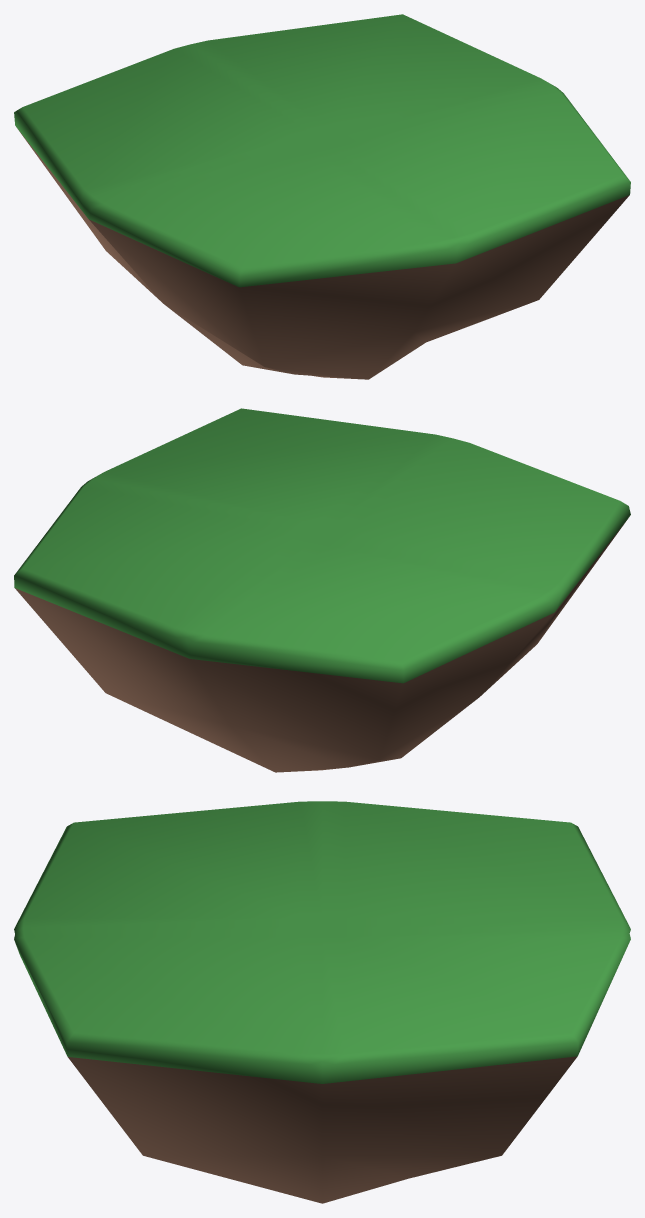
File: floating_island.fbx
3 views of the same model, one above another, from view 1: azimuth 30°, elevation 25°; view 2: azimuth 150°, elevation 25°; view 3: azimuth 270°, elevation 25° (orthographic). The views are drawn at different scales.
Parts seen in each view (by area): view 1: FloatingIsland; view 2: FloatingIsland; view 3: FloatingIsland.
Boxes of the visible parts, bbox=[...] form: FloatingIsland: bbox=[14, 14, 630, 379]; FloatingIsland: bbox=[14, 408, 630, 772]; FloatingIsland: bbox=[14, 801, 630, 1203].
Bounding box in the file's own units: 30.45 × 14.58 × 30.45.
